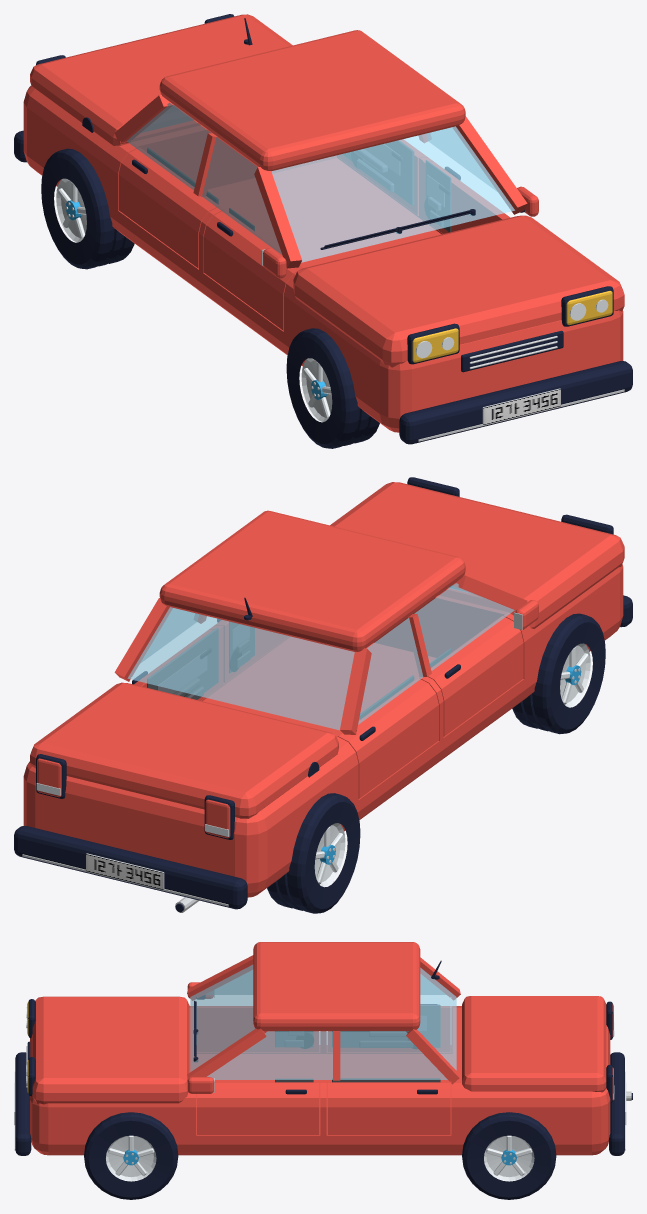
File: V02_sedan_v2.glb
3 views of the same model, one above another, from view 1: azimuth 30°, elevation 25°; view 2: azimuth 150°, elevation 25°; view 3: azimuth 270°, elevation 25° (orthographic). The views are drawn at different scales.
Parts seen in each view (by area): view 1: Body, Glass, Trunk, Wheel_FR, Wheel_RR, Bumper_Front, Door_Rear_R, Door_R, DoorDetail_Rear_L, Door_L, Grille, Headlight_-1 (+5 smaller); view 2: Body, Trunk, Glass, Wheel_RR, Wheel_FR, Bumper_Rear, Door_R, Door_Rear_R, DoorDetail_Rear_L, LicensePlate_Rear, Taillight_-1, Taillight_1 (+2 smaller); view 3: Body, Glass, Trunk, Wheel_RL, Wheel_FL, Door_Rear_L, Door_L, Door_R, DoorDetail_Rear_R, Bumper_Front, Bumper_Rear, Door_Rear_R (+3 smaller).
Boxes of the visible parts, box(x1,y1,x2,y2) form: Body: box(23, 30, 624, 432); Glass: box(127, 102, 514, 262); Trunk: box(30, 14, 292, 145); Wheel_FR: box(286, 328, 379, 448); Wheel_RR: box(41, 148, 134, 269); Bumper_Front: box(399, 361, 632, 444); Door_Rear_R: box(118, 139, 218, 268); Door_R: box(203, 210, 303, 330); DoorDetail_Rear_L: box(343, 140, 413, 205); Door_L: box(423, 161, 510, 233); Grille: box(461, 330, 563, 372); Headlight_-1: box(407, 323, 459, 364); Body: box(23, 482, 624, 897); Trunk: box(30, 682, 338, 818); Glass: box(127, 583, 514, 730); Wheel_RR: box(267, 793, 360, 913); Wheel_FR: box(512, 613, 605, 734); Bumper_Rear: box(14, 826, 247, 909); Door_R: box(428, 609, 523, 736); Door_Rear_R: box(337, 676, 438, 798); DoorDetail_Rear_L: box(132, 627, 218, 699); LicensePlate_Rear: box(86, 853, 164, 889); Taillight_-1: box(204, 795, 234, 839); Taillight_1: box(36, 754, 66, 798); Body: box(30, 942, 610, 1155); Glass: box(190, 965, 456, 1079); Trunk: box(462, 996, 606, 1092); Wheel_RL: box(462, 1112, 556, 1199); Wheel_FL: box(84, 1112, 178, 1199); Door_Rear_L: box(327, 1081, 450, 1134); Door_L: box(197, 1082, 319, 1134); Door_R: box(197, 997, 319, 1051); DoorDetail_Rear_R: box(332, 1004, 440, 1048); Bumper_Front: box(14, 1052, 31, 1155); Bumper_Rear: box(609, 1052, 625, 1155); Door_Rear_R: box(327, 997, 450, 1051).
Size of the model in its own units: 1.77 by 1.59 by 4.67.
Materials: 11 (1 with a texture image).
